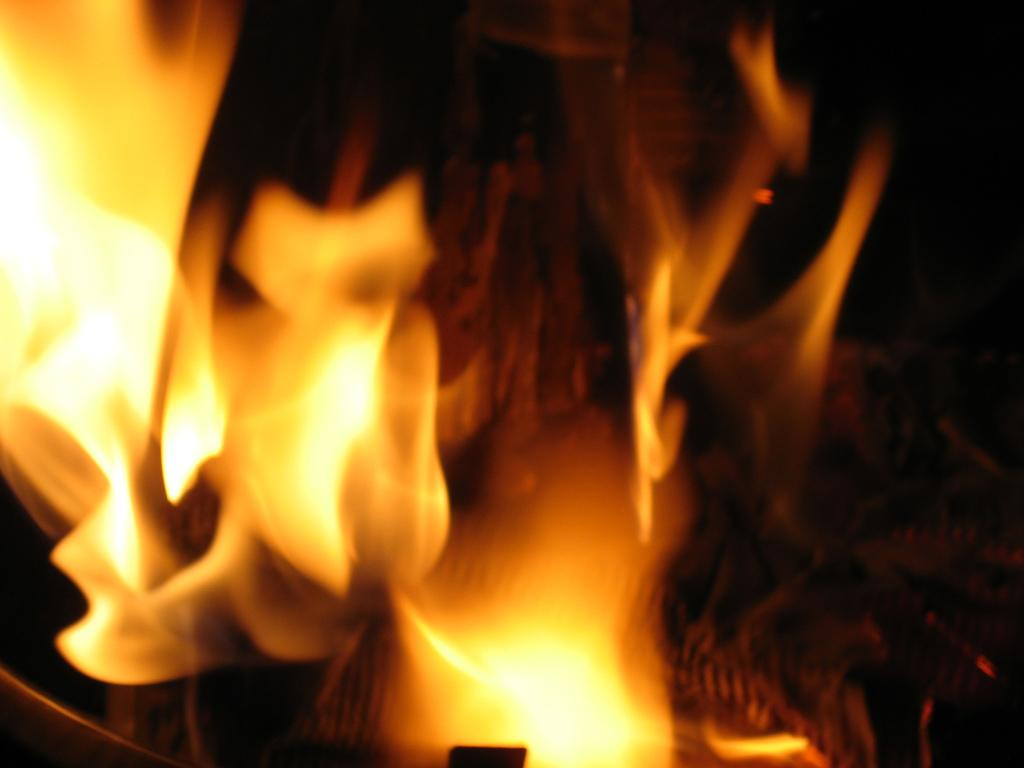fire: (8, 30, 154, 386), (446, 596, 614, 752), (272, 348, 390, 514)
